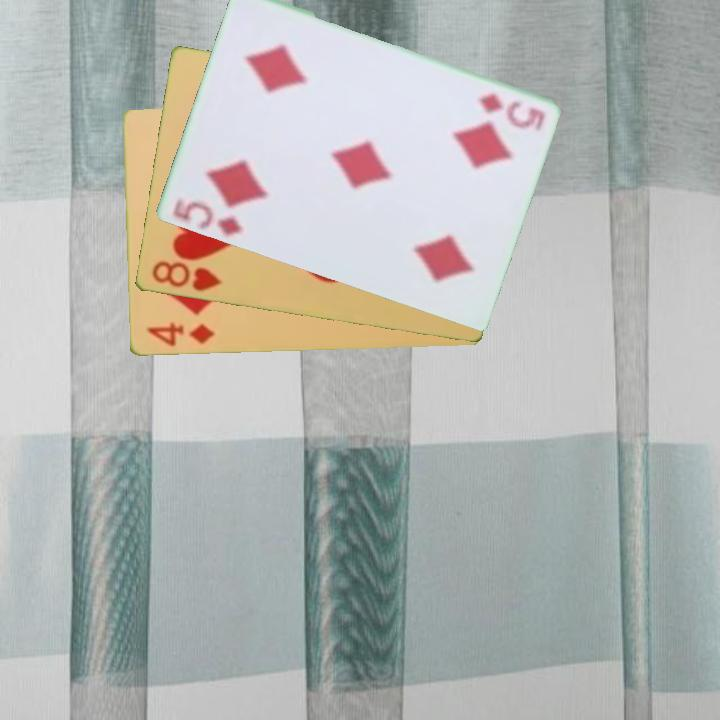4d: (143, 319, 217, 350)
5d: (169, 198, 247, 240), (474, 90, 547, 131)
8h: (148, 257, 224, 295)
